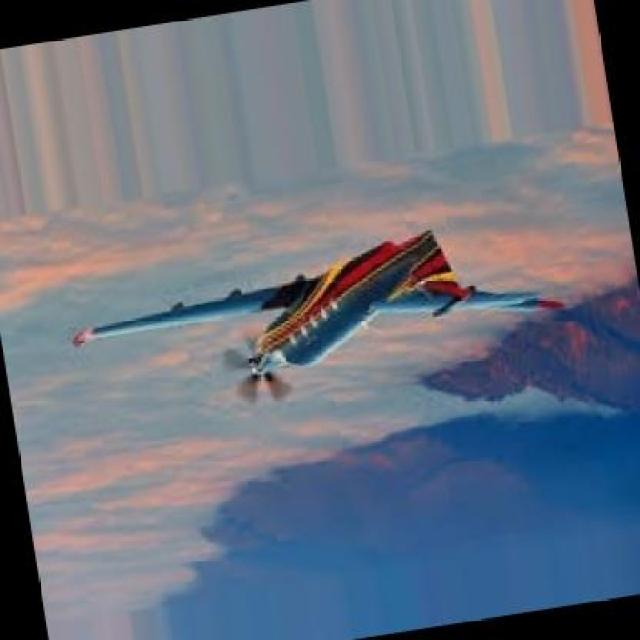iha: (73, 222, 571, 402)
